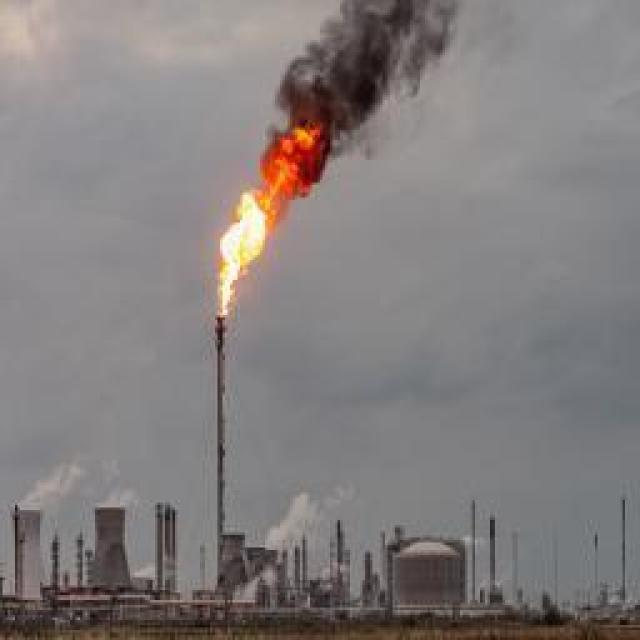fire: (214, 120, 324, 318)
smoke: (265, 0, 457, 165)
